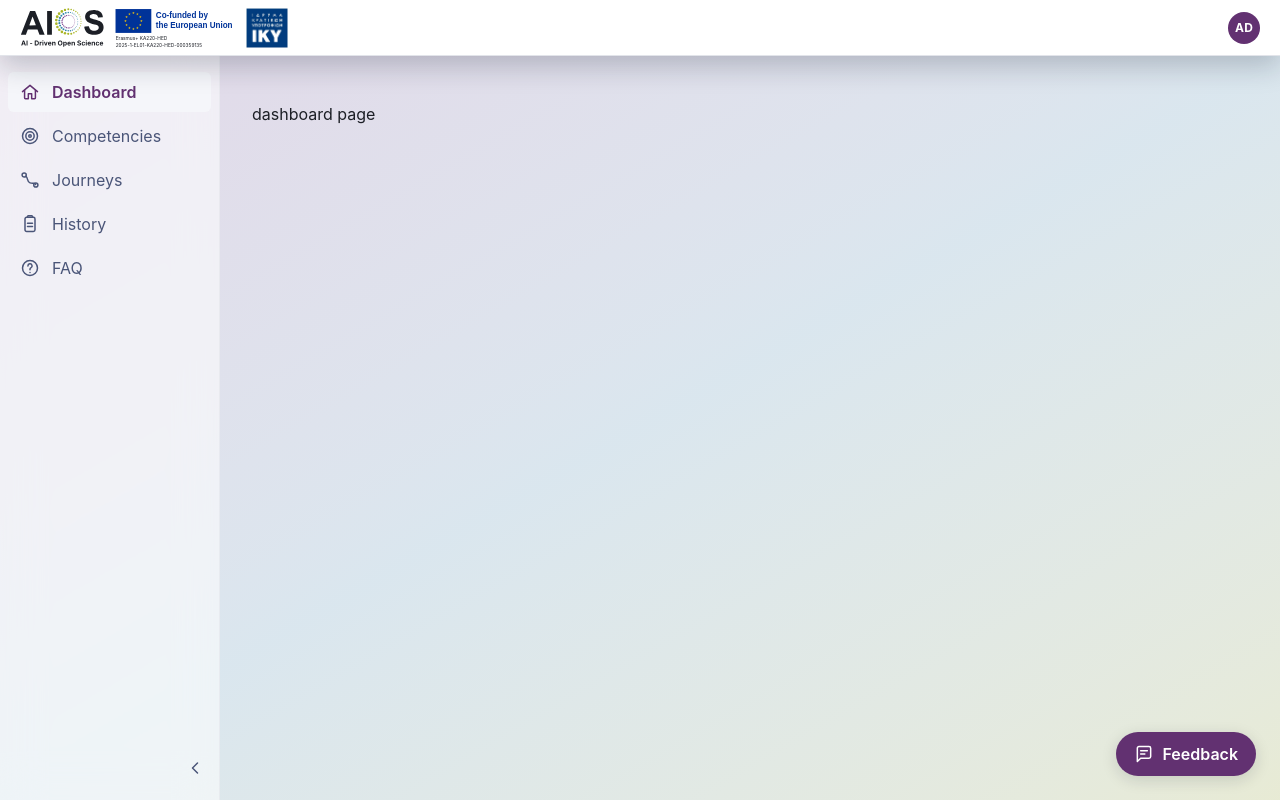
it: AppShell › remembers whether the rail's labels are hidden
This screenshot has width=1280, height=800.
Step 1. Click the button named "Hide labels" → (195, 768), box [179,752,211,784]
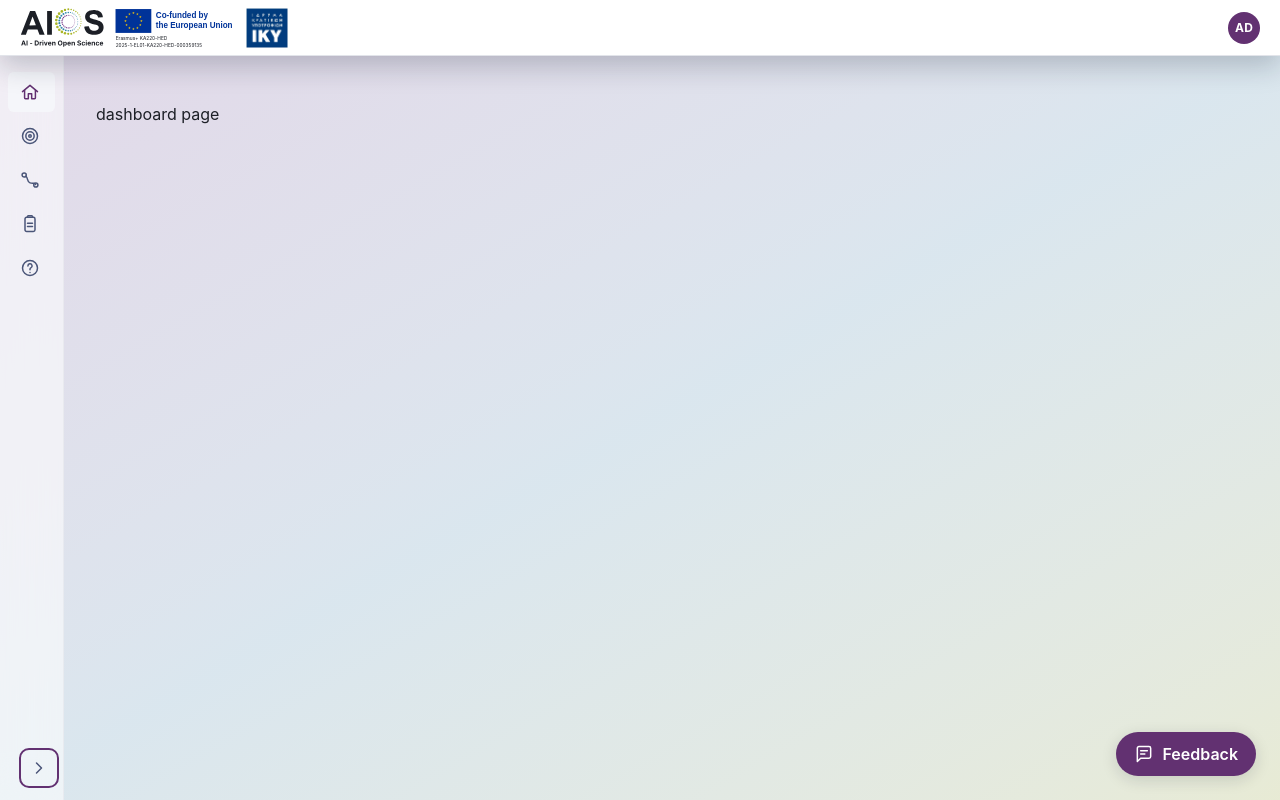
Result: the button named "Show labels" is shown at [23,752,55,784]
